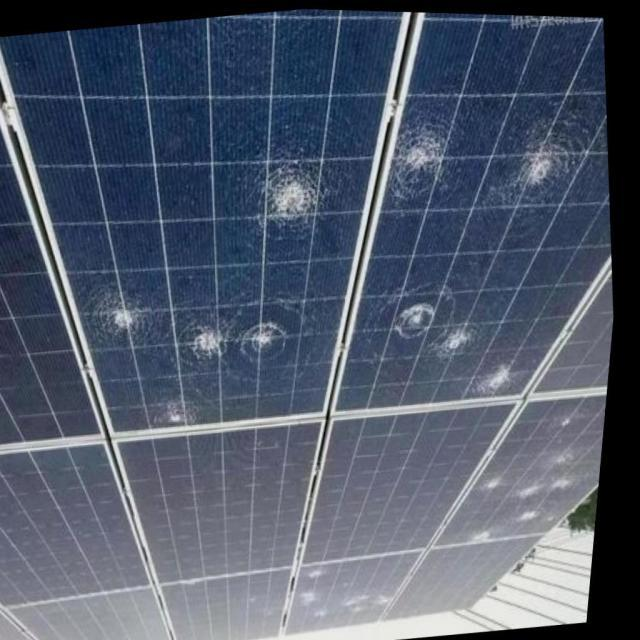cracked: (1, 12, 367, 420), (372, 9, 614, 412)
